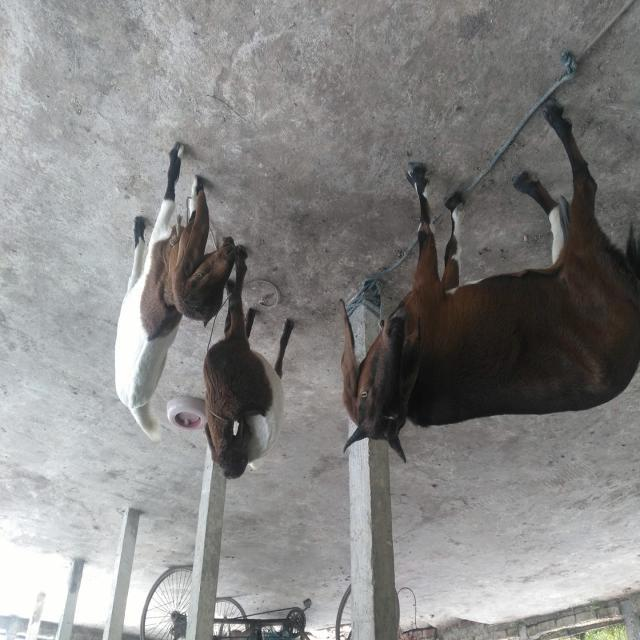Goat: (338, 97, 640, 465), (115, 143, 238, 443), (204, 246, 295, 482)
